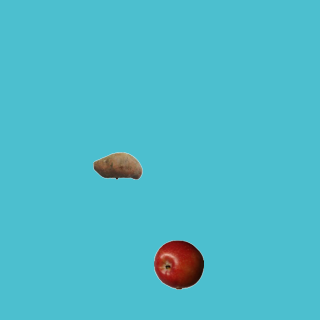Apple Braeburn: (153, 239, 203, 289)
Potato Sweet: (92, 140, 142, 190)
